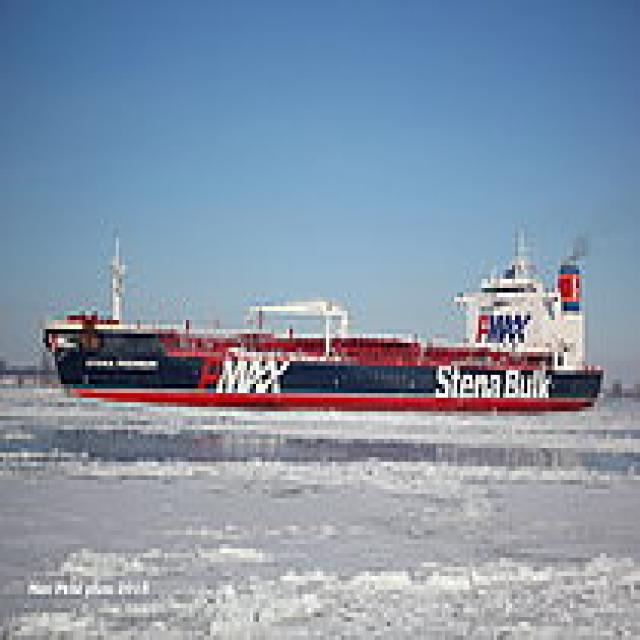Tanker: (37, 224, 600, 411)
